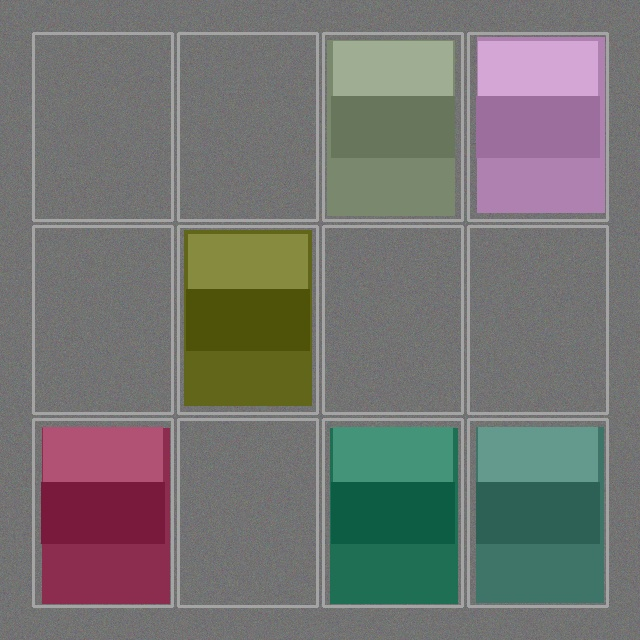space-empty: (35, 35, 170, 218), (180, 35, 315, 218), (35, 228, 170, 411), (325, 228, 460, 411), (470, 228, 605, 411), (180, 421, 315, 604)
space-occupied: (325, 35, 460, 218), (470, 35, 605, 218), (180, 228, 315, 411), (35, 421, 170, 604), (325, 421, 460, 604), (470, 421, 605, 604)
